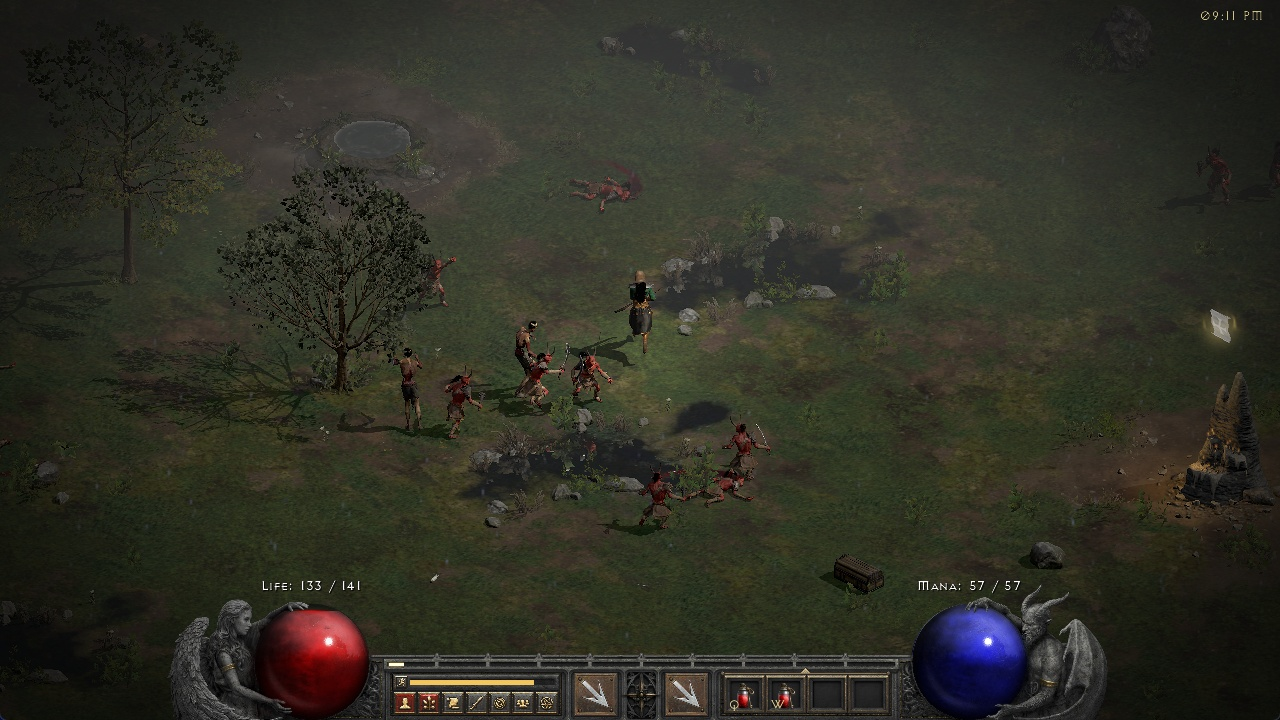fallen: (405, 246, 466, 315), (630, 461, 689, 531), (722, 416, 783, 477), (434, 371, 491, 435), (1191, 148, 1243, 207), (565, 346, 612, 410), (520, 351, 569, 408)
